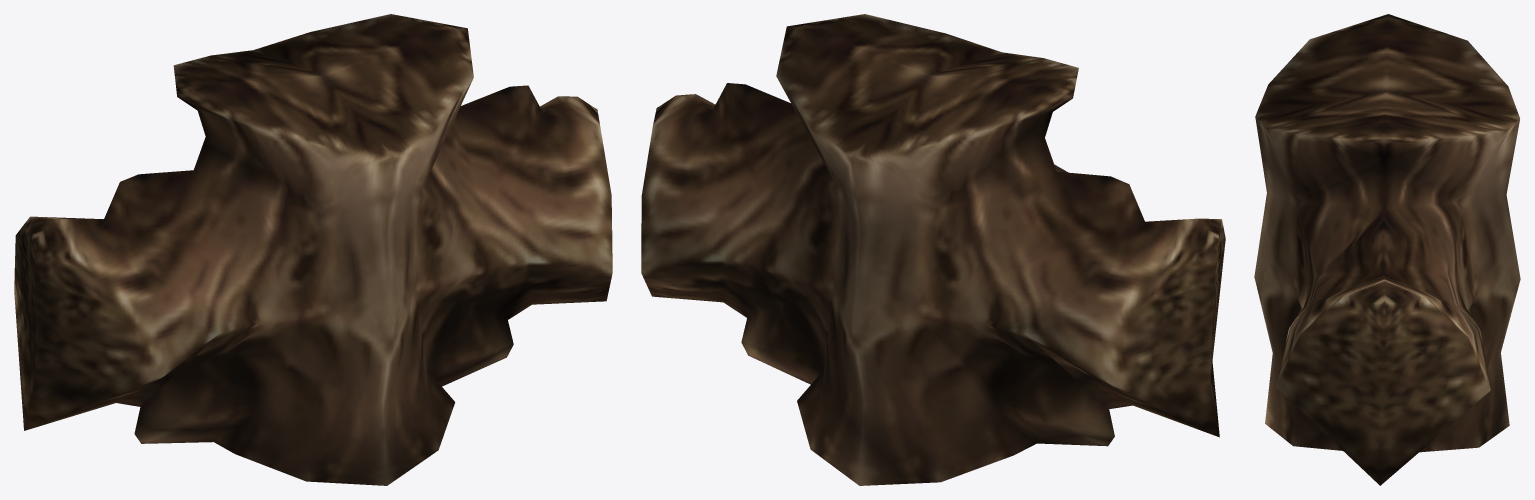
Rendered from D_zhangai003.fbx.
3 views of the same model, side by side, from view 1: azimuth 30°, elevation 25°; view 2: azimuth 150°, elevation 25°; view 3: azimuth 270°, elevation 25° (orthographic). The views are drawn at different scales.
Parts seen in each view (by area): view 1: D_zhangai003; view 2: D_zhangai003; view 3: D_zhangai003.
Boxes of the visible parts, bbox=[...] form: D_zhangai003: bbox=[14, 14, 612, 485]; D_zhangai003: bbox=[641, 14, 1225, 485]; D_zhangai003: bbox=[1254, 14, 1520, 485].
Bounding box in the file's own units: 93.87 × 60.51 × 40.86.
